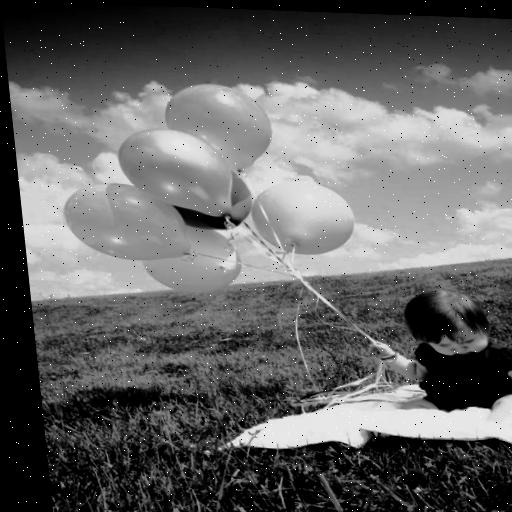balloon: (59, 184, 196, 258), (126, 130, 238, 219), (166, 86, 278, 171), (262, 180, 358, 258), (146, 227, 245, 293), (169, 175, 256, 229)
